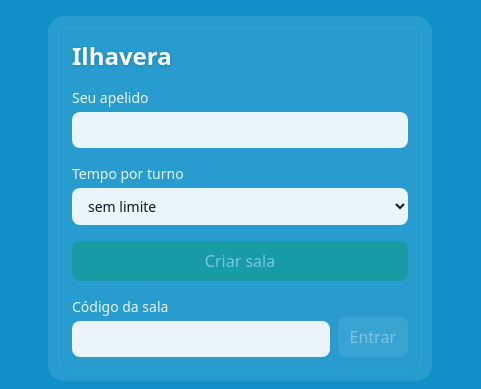
tela de sala › quem não é anfitrião não vê o botão de começar
(page scrolled)
Type "Ana" into the field with test id "apelido". click: (240, 130)
box: [72,112,408,148]
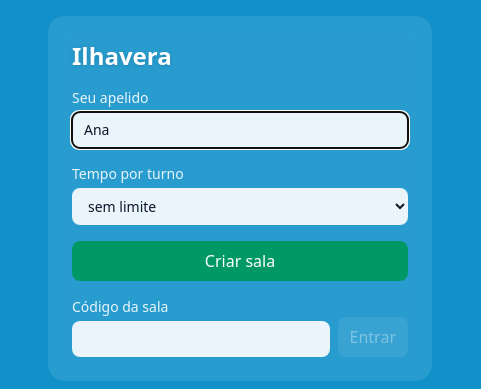
Type "ABC234" into the field with test id "codigo". click: (201, 339)
box: [72,321,330,357]
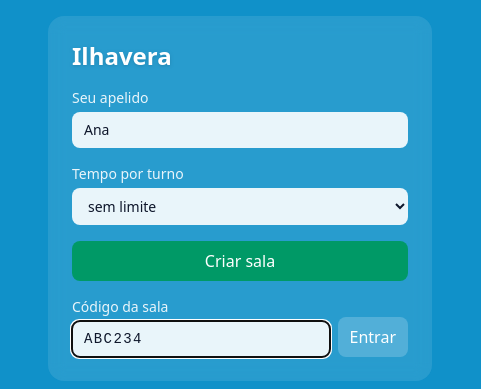
Click the button "Entrar". click: (373, 337)
box: [338,317,408,357]
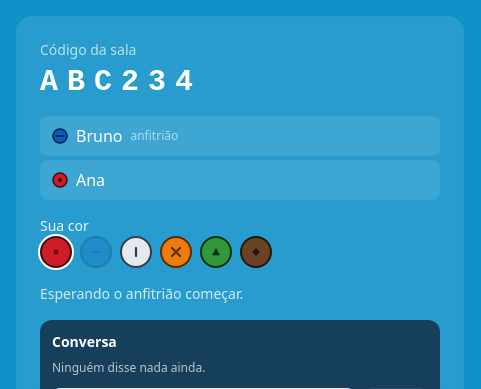
Expected: the text "ABC234" is shown, [40,65,202,99]
Expected: the text "Esperando o anfitrião começar." is shown, [40,284,243,303]
